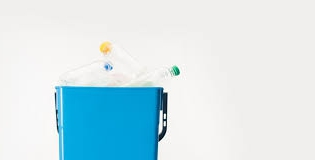plastic water bottle: (95, 38, 150, 79), (54, 58, 114, 87), (116, 63, 184, 88)
